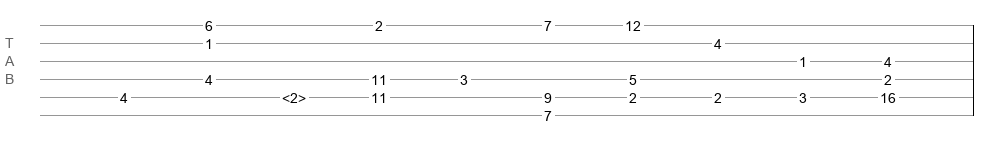1: (205, 36, 213, 46), (799, 54, 807, 64)
11: (371, 72, 387, 82), (371, 90, 387, 100)
12: (625, 18, 641, 28)
16: (880, 90, 896, 100)
2: (375, 18, 383, 28), (629, 90, 637, 100), (714, 90, 722, 100), (884, 72, 892, 82)
3: (460, 72, 468, 82), (799, 90, 807, 100)
4: (120, 90, 128, 100), (205, 72, 213, 82), (714, 36, 722, 46), (884, 54, 892, 64)
5: (629, 72, 637, 82)
6: (205, 18, 213, 28)
7: (544, 108, 552, 118), (544, 18, 552, 28)
9: (544, 90, 552, 100)
harmonic: (282, 90, 306, 100)
